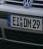2: (32, 19, 36, 28)
9: (36, 19, 40, 29)
D: (24, 17, 28, 27)
E: (13, 16, 16, 26)
M: (27, 19, 31, 28)
